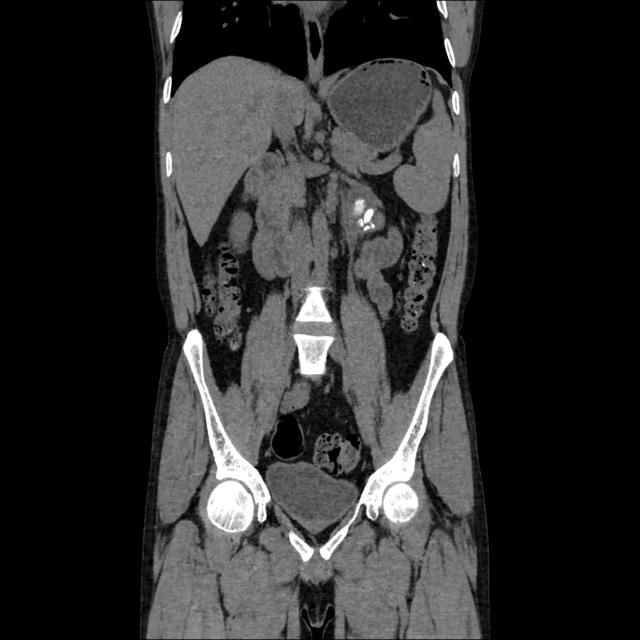kidneystone: (359, 218, 375, 232), (364, 208, 374, 221)
